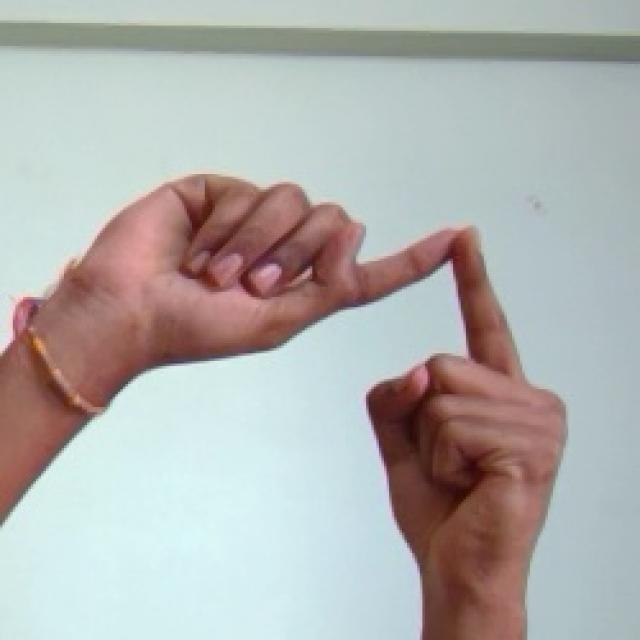Alphabet-E: (0, 174, 568, 639)
